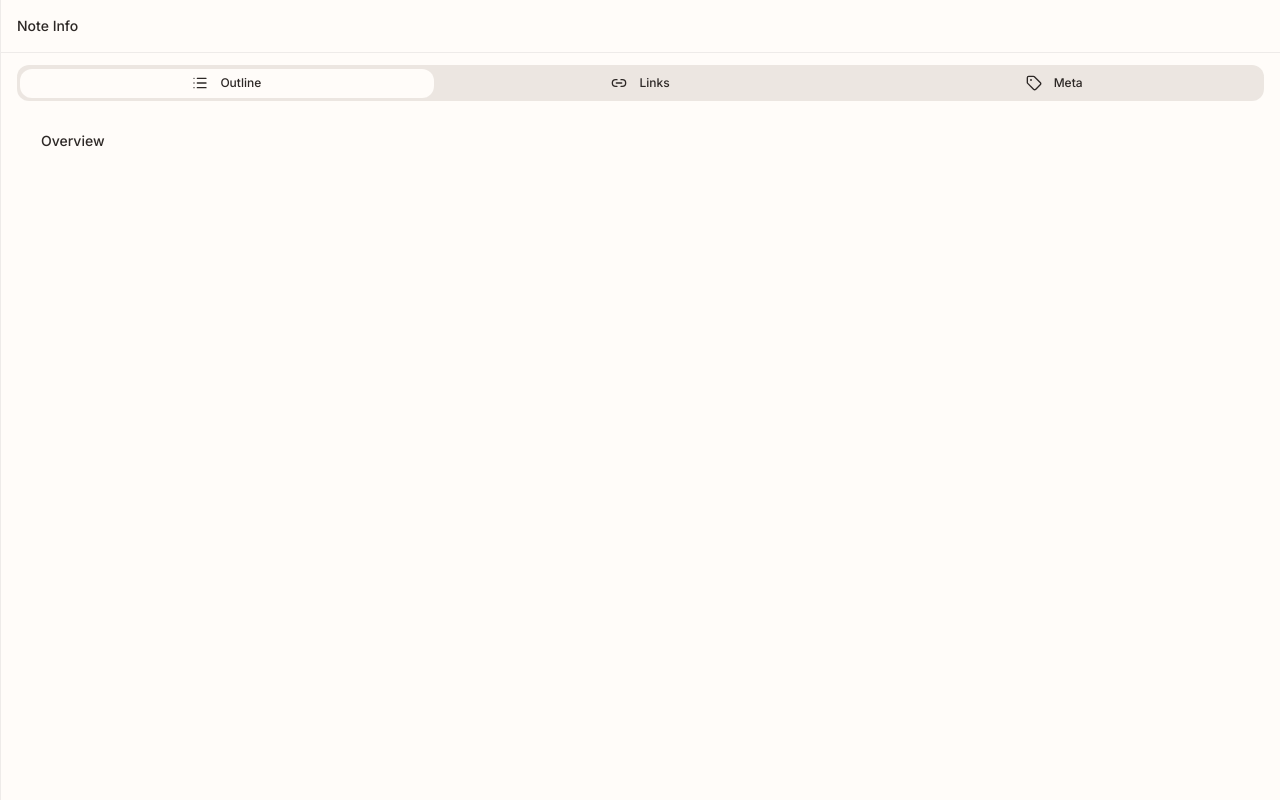
Test: RightPanel source metadata › shows metadata but no mutation controls when the room is read only
Press the mouse on the tab "Meta": (1054, 83) [847,68,1261,98]
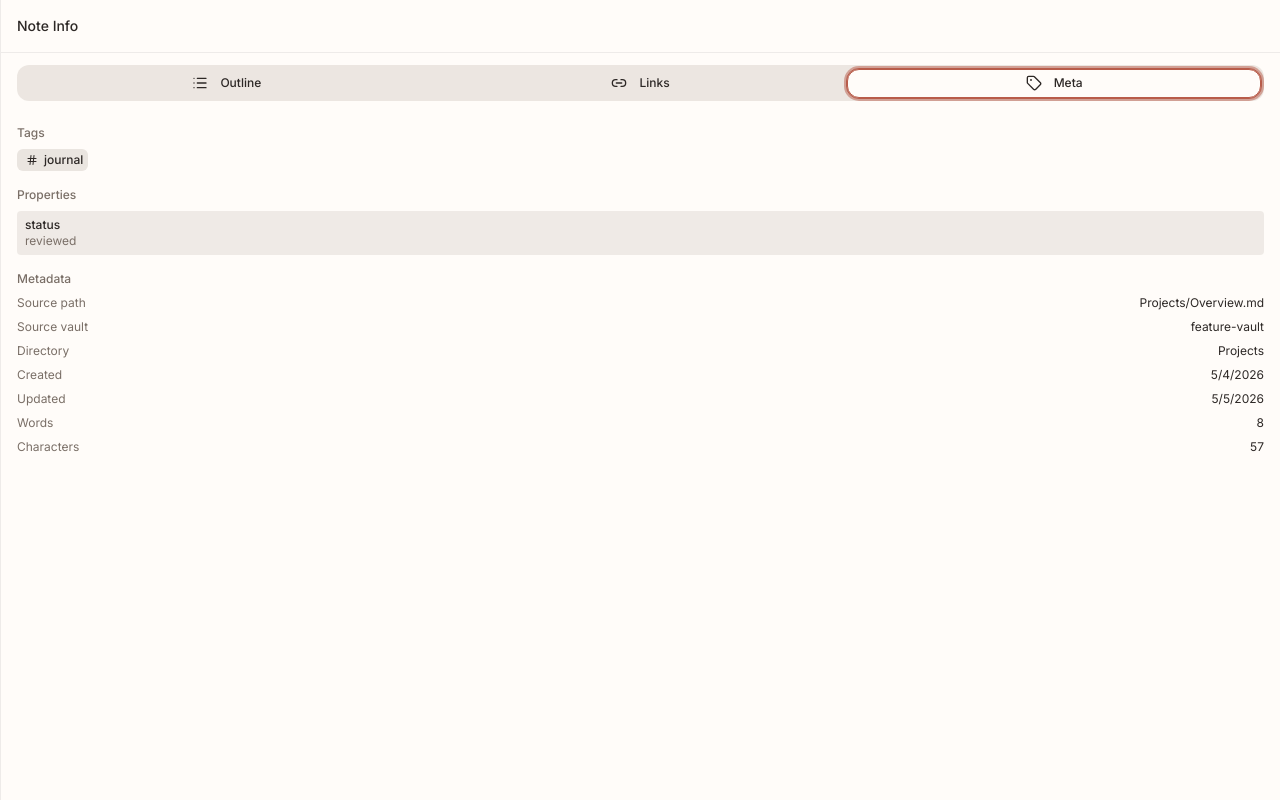
Check: the text "journal" is shown, box [17,149,88,171]
Check: the text "reviewed" is shown, box [25,233,76,248]
